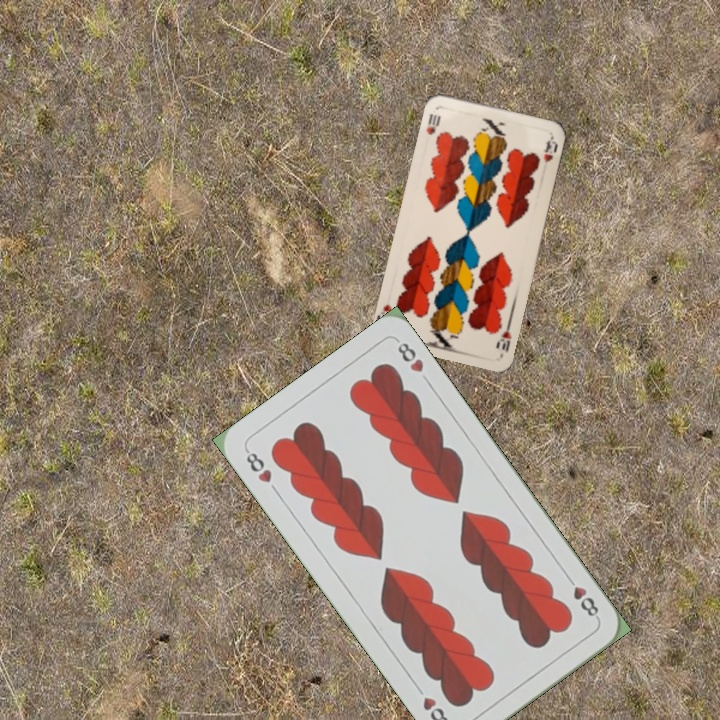H10: (492, 318, 514, 355), (422, 109, 443, 137)
H8: (562, 571, 602, 622), (241, 445, 275, 486)
